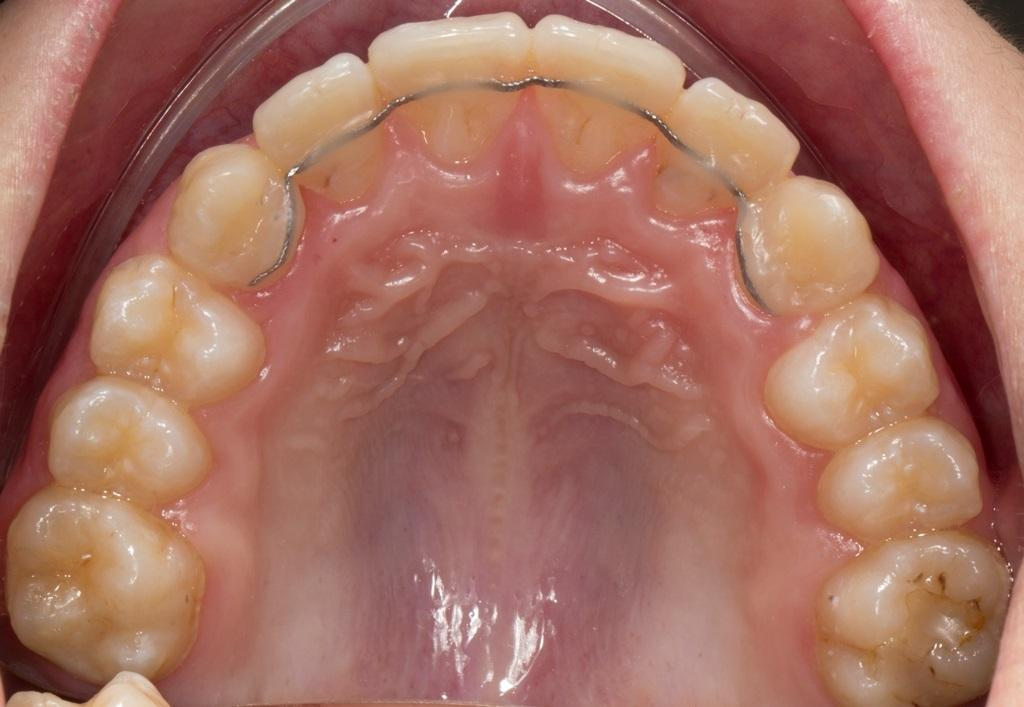UL1BC_healthy: (772, 307, 926, 447)
UL1M_decay: (812, 530, 996, 703)
UL2BC_healthy: (822, 414, 977, 541)
ULCI_decay: (533, 18, 676, 177)
ULC_decay: (732, 173, 880, 308)
ULLI_decay: (659, 82, 788, 204)
UR1BC_healthy: (91, 257, 271, 402)
UR1M_healthy: (9, 488, 202, 671)
UR2BC_healthy: (46, 377, 219, 507)
URCI_decay: (374, 12, 530, 177)
URC_decay: (169, 139, 310, 284)
URLI_decay: (260, 50, 390, 197)
